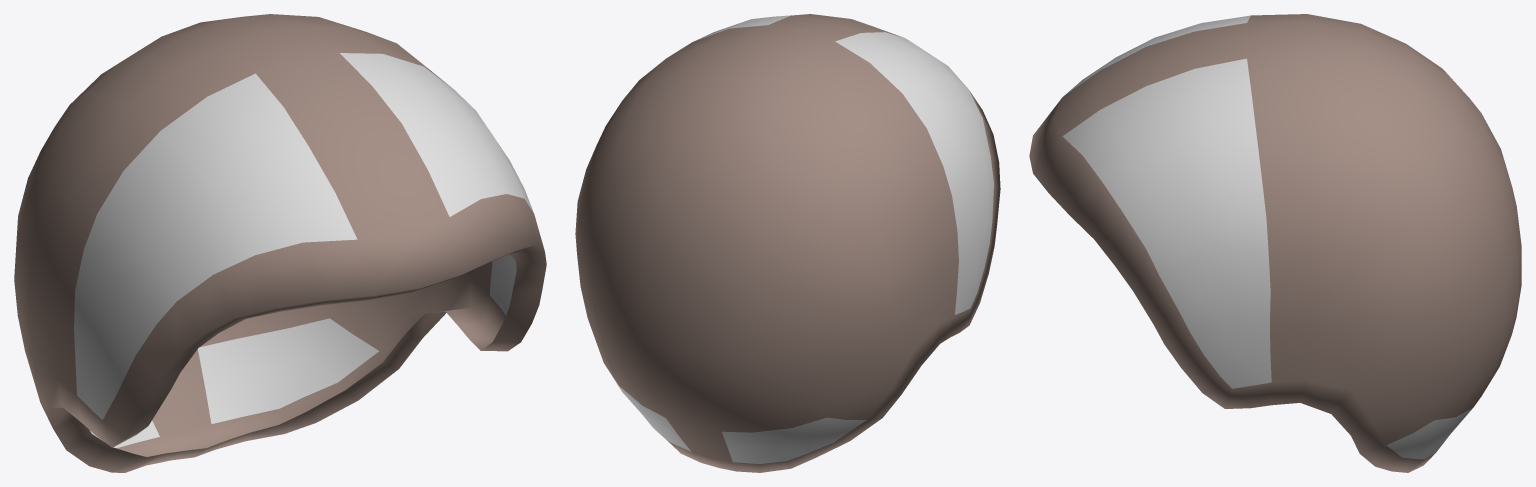
Rendered from C_hair_buzzcut.fbx.
3 views of the same model, side by side, from view 1: azimuth 30°, elevation 25°; view 2: azimuth 150°, elevation 25°; view 3: azimuth 270°, elevation 25° (orthographic). The views are drawn at different scales.
Parts seen in each view (by area): view 1: buzzcut; view 2: buzzcut; view 3: buzzcut.
Part boxes in pixels (bbox=[...]): buzzcut: bbox=[14, 14, 546, 472]; buzzcut: bbox=[575, 14, 1000, 472]; buzzcut: bbox=[1029, 14, 1521, 472].
Size of the model in its own units: 15.86 by 17.1 by 18.48.
